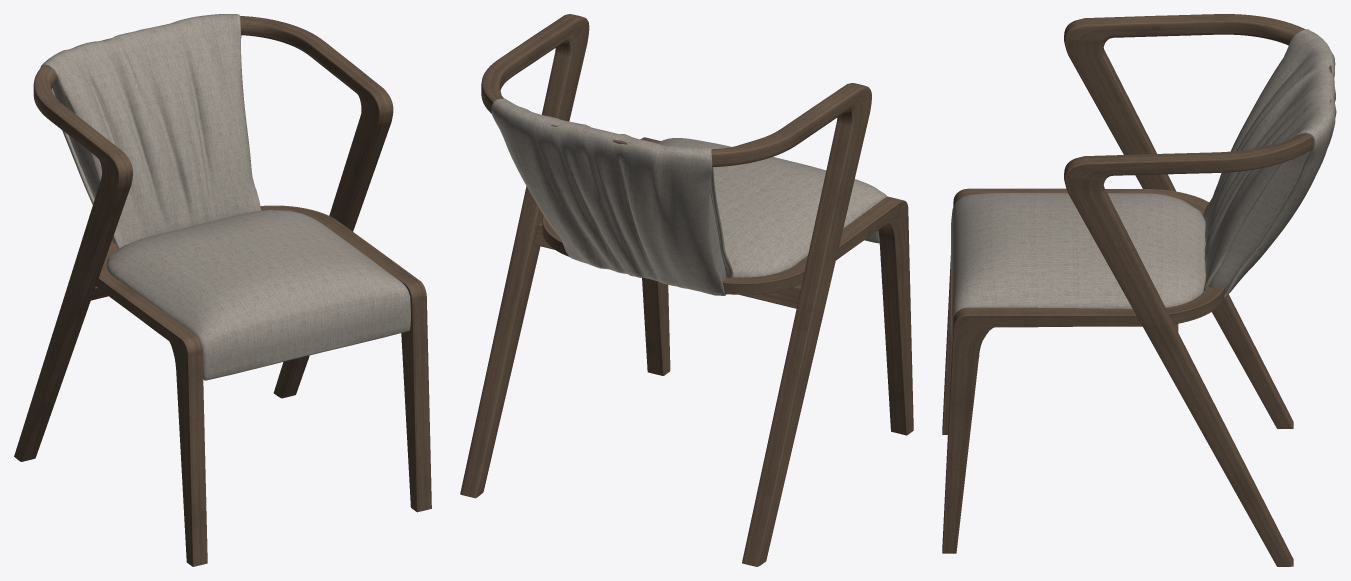
The picture shows the model from 3 angles, left to right: view 1: azimuth 30°, elevation 25°; view 2: azimuth 150°, elevation 25°; view 3: azimuth 270°, elevation 25°; orthographic projection. The views are drawn at different scales.
Parts seen in each view (by area): view 1: 3D_chair_17; view 2: 3D_chair_17; view 3: 3D_chair_17.
Boxes of the visible parts, <box> form: 3D_chair_17: <box>14,14,431,566</box>; 3D_chair_17: <box>460,14,913,566</box>; 3D_chair_17: <box>942,14,1336,566</box>.
Bounding box in the file's own units: 0.5414 × 0.7124 × 0.6159.
Materials: 1 (1 with a texture image).
